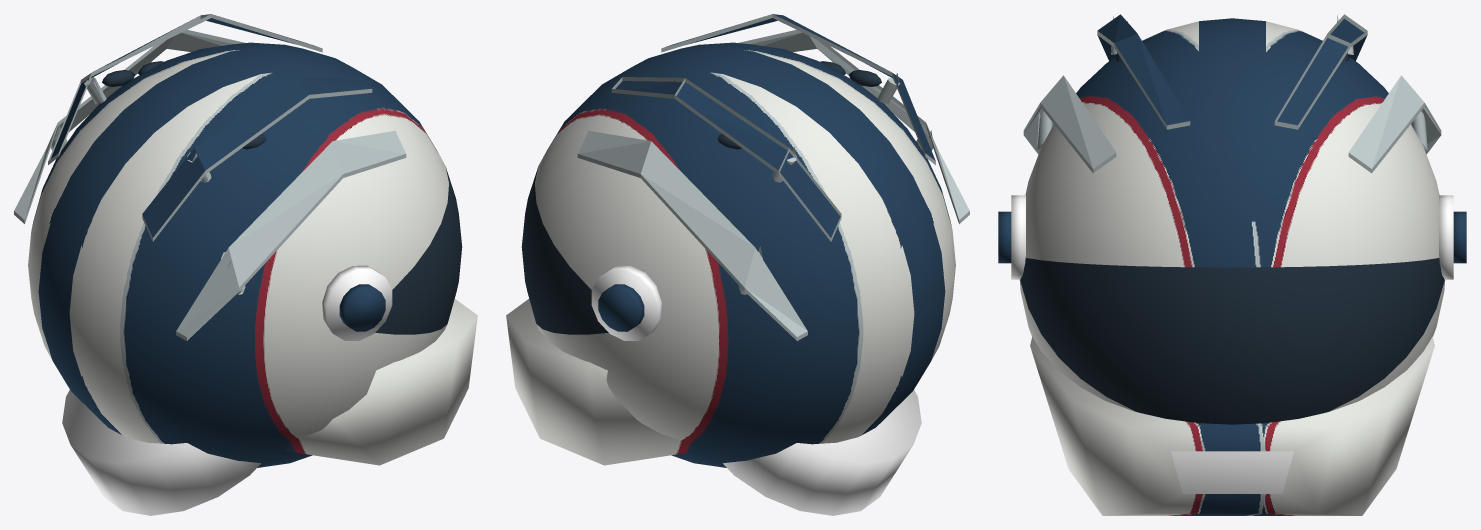
File: Helmet_24_SSR_白銀・三段返し.glb
3 renders of one model, left to right at view 1: azimuth 30°, elevation 25°; view 2: azimuth 150°, elevation 25°; view 3: azimuth 270°, elevation 25°, orthographic. The views are drawn at different scales.
Visible parts, largest first — view 1: Helmet_24_SSR, Visor; view 2: Helmet_24_SSR, Visor; view 3: Helmet_24_SSR, Visor.
Part boxes in pixels (box(x1,y1,x2,y2)): Helmet_24_SSR: box(14, 14, 477, 515); Visor: box(102, 61, 462, 334); Helmet_24_SSR: box(506, 14, 969, 515); Visor: box(521, 61, 881, 334); Helmet_24_SSR: box(998, 14, 1466, 515); Visor: box(1020, 53, 1444, 424).
Size of the model in its own units: 0.301 by 0.314 by 0.289.
Materials: 4 (4 with a texture image).
